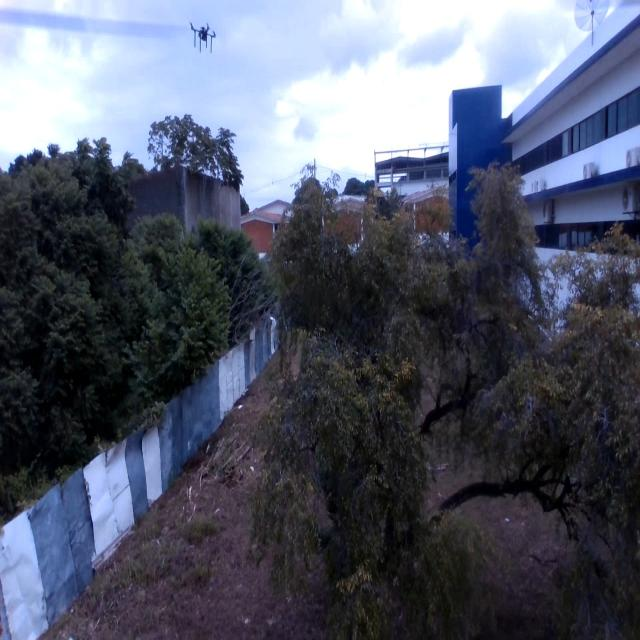-uav-: (182, 20, 218, 66)
